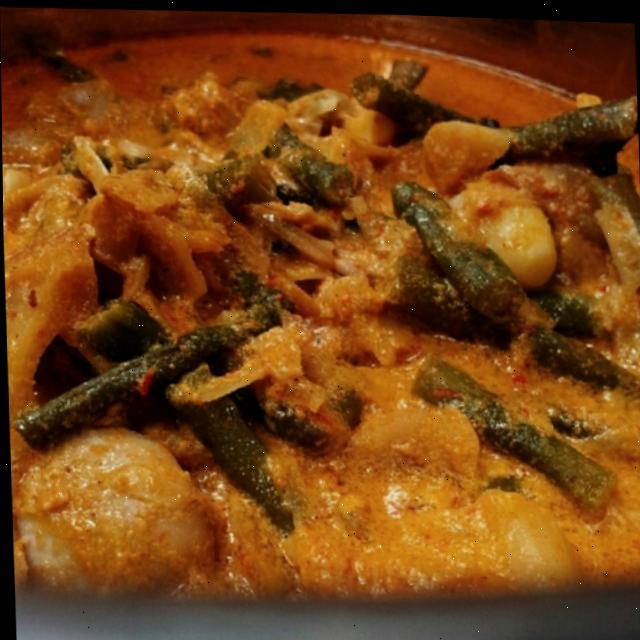熟制海鲜: (30, 14, 635, 635)
